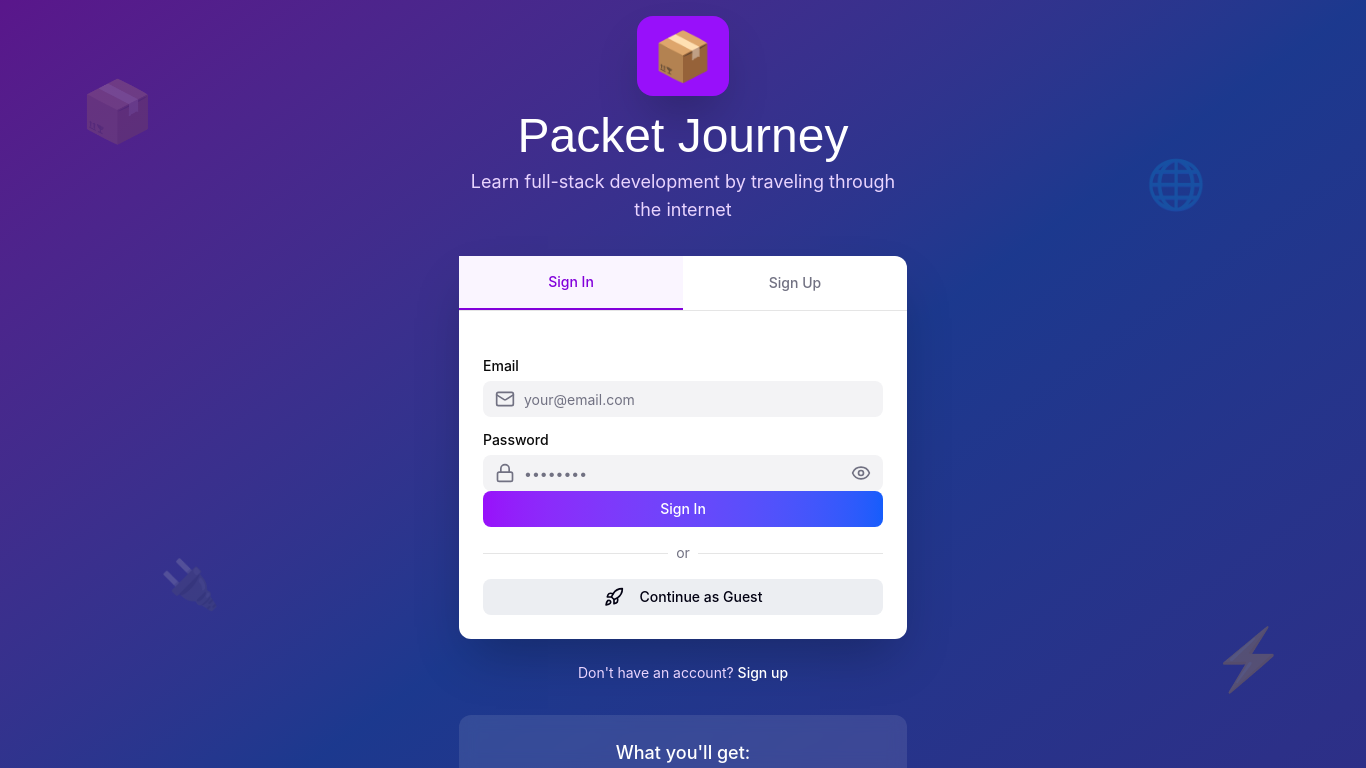
Test: LoginPage › login flow › shows loading state during login
Type "test@test.com" into the field labelled "Email" at coordinates (683, 399), box [483,381,883,417]
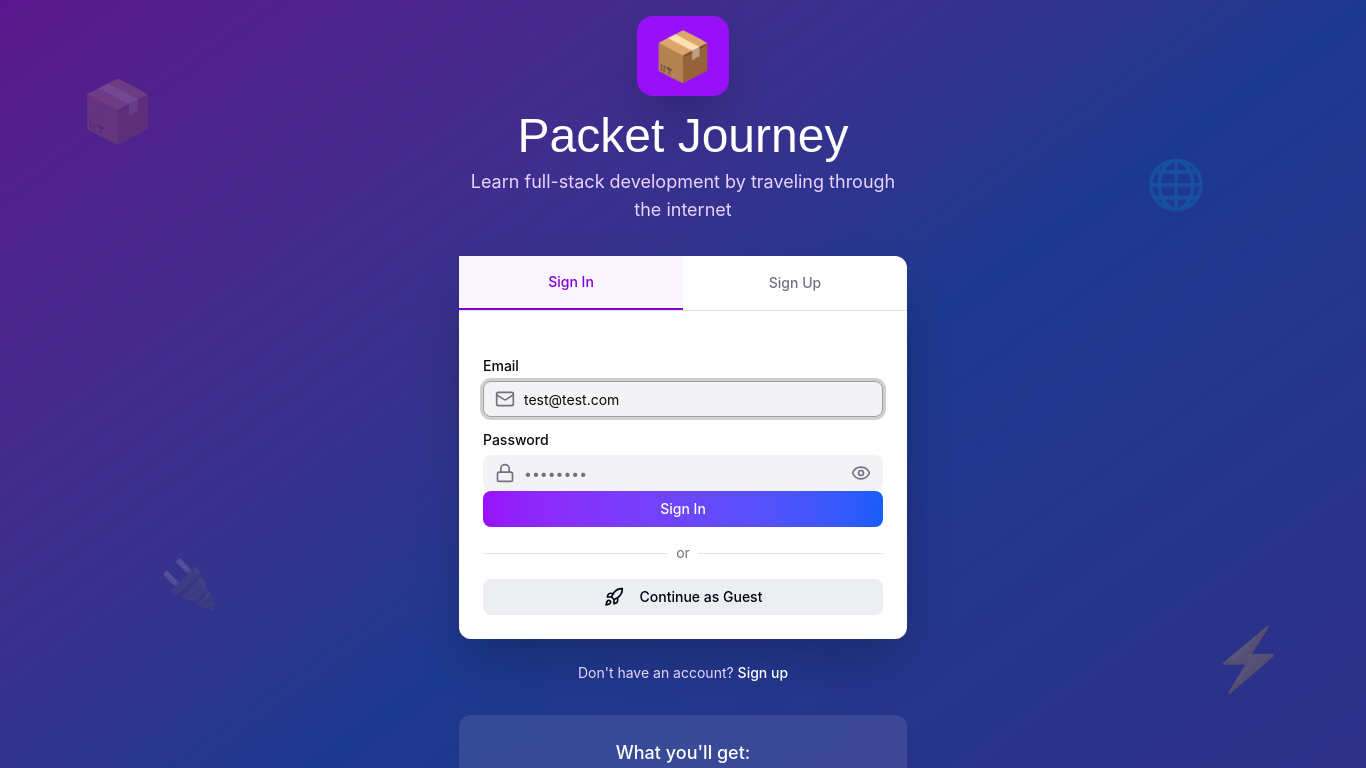
Type "password123" into the password field labelled "Password" at coordinates (683, 473), box [483,455,883,491]
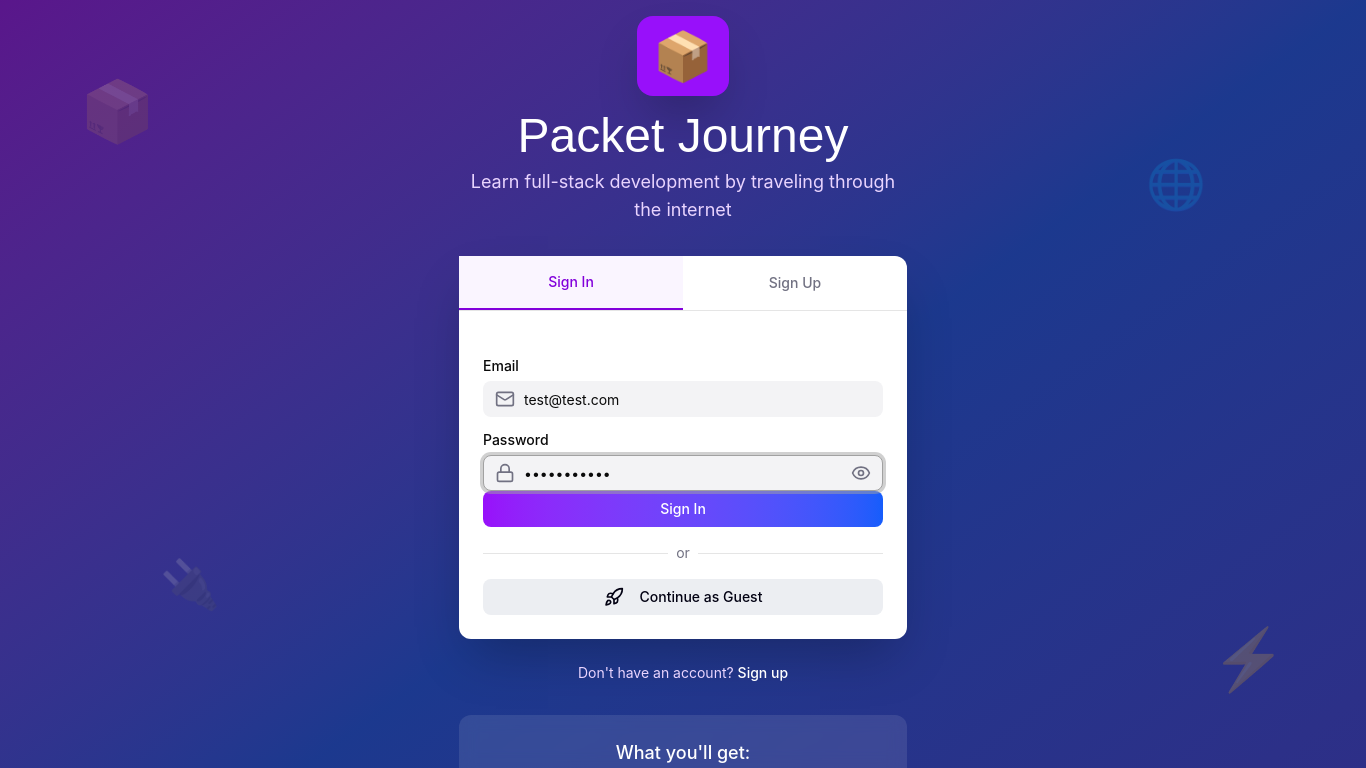
Click the submit button at coordinates (683, 509), box [483,491,883,527]
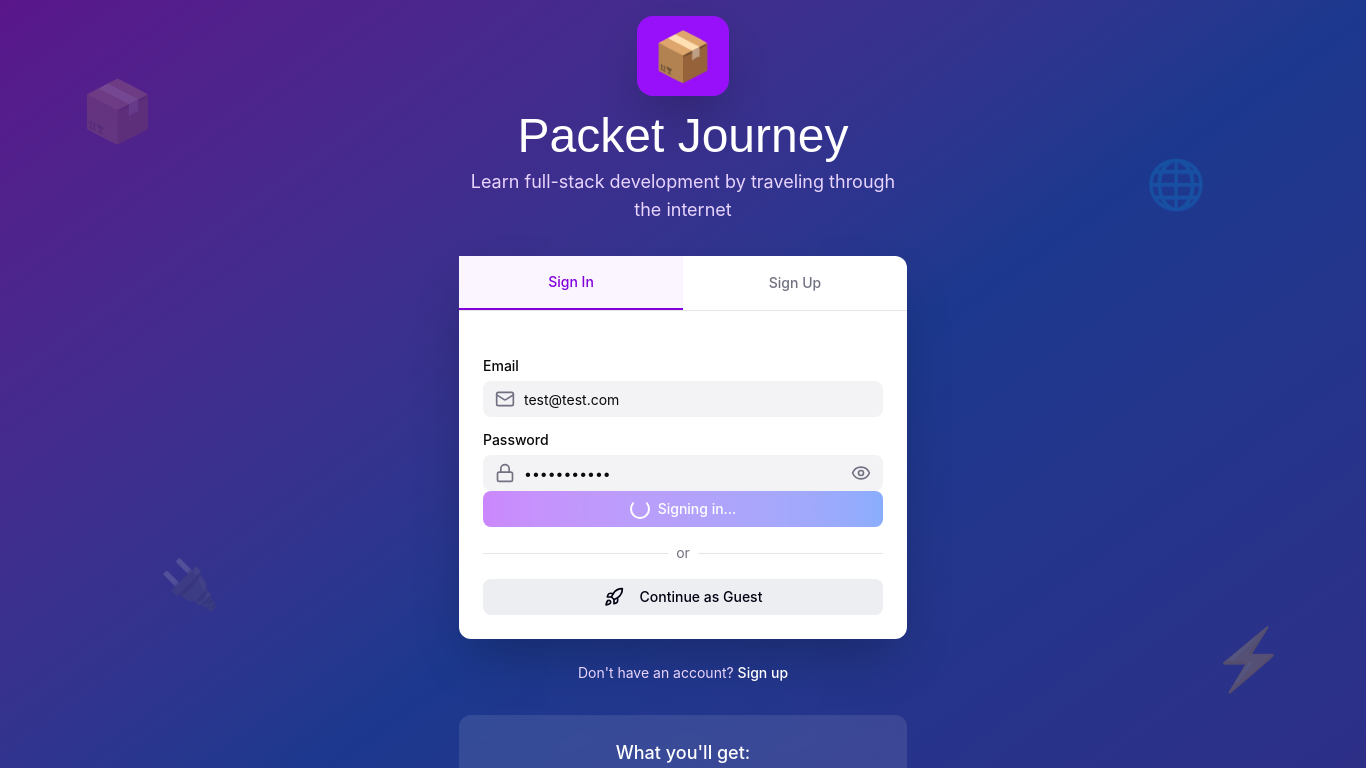
Now the text "Signing in..." is shown, box [630,499,736,519]
